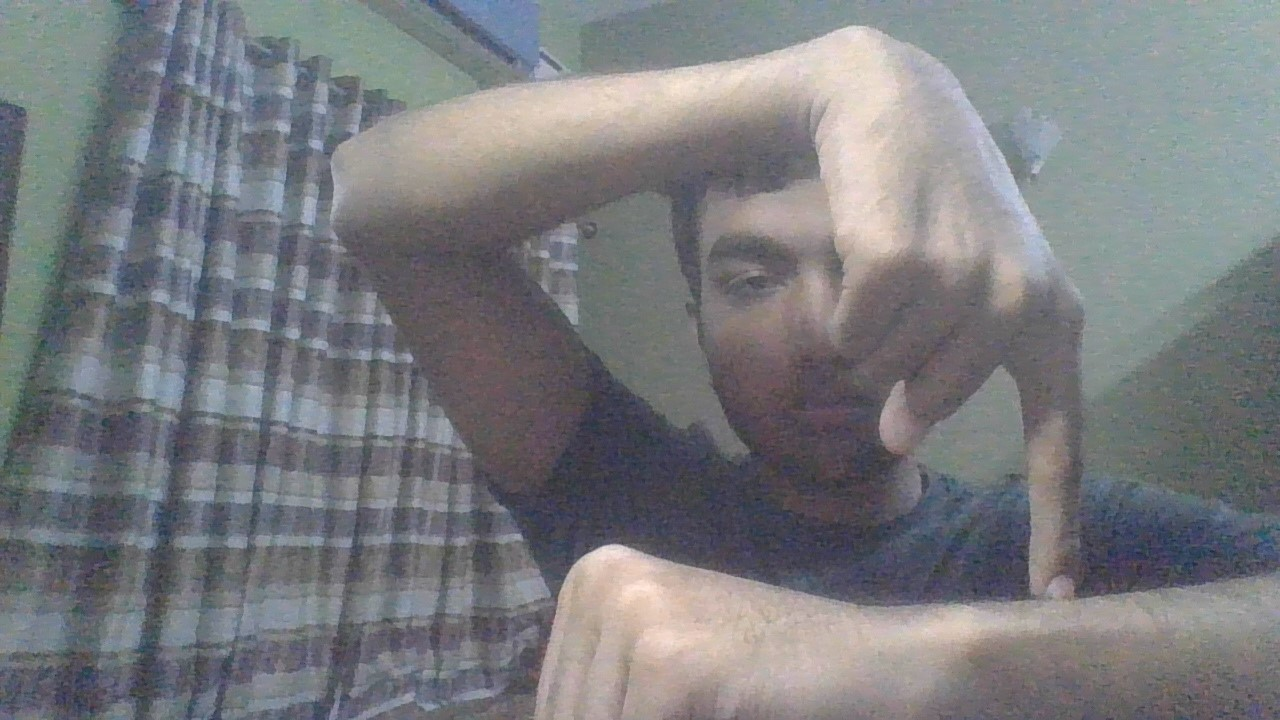Time: (555, 42, 1122, 720)
